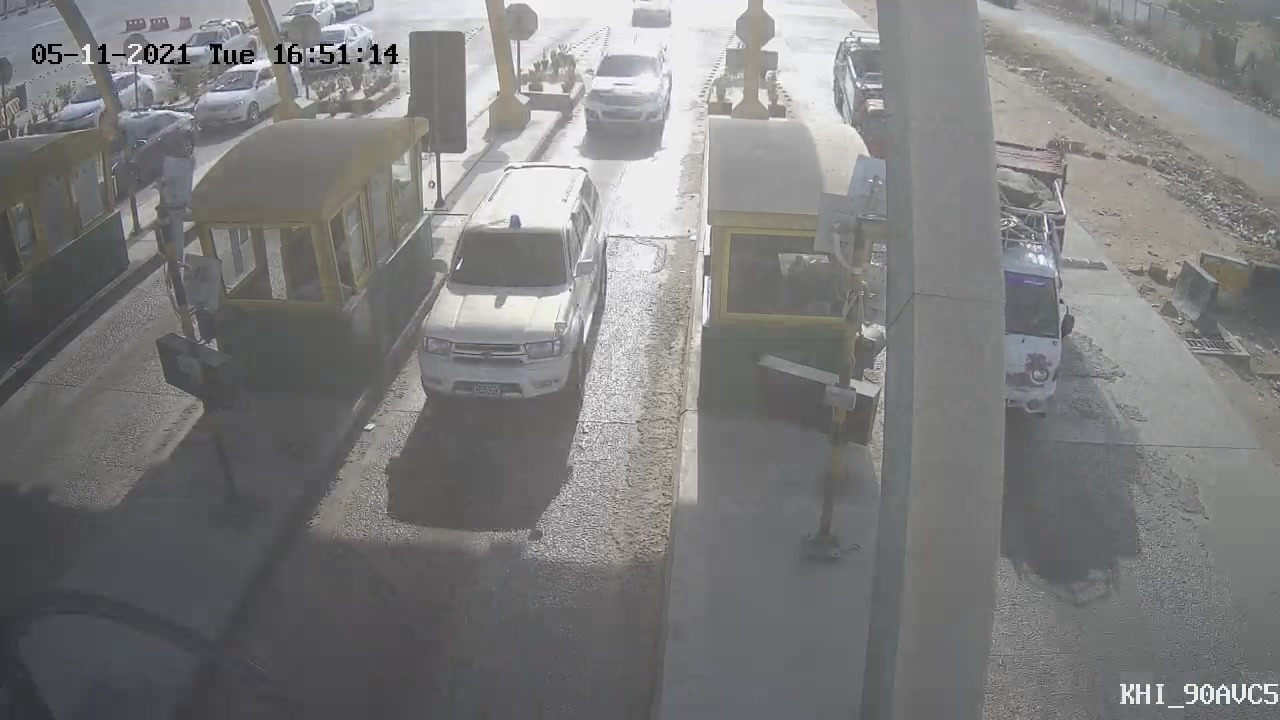F1: (392, 147, 630, 424), (570, 29, 685, 151)
